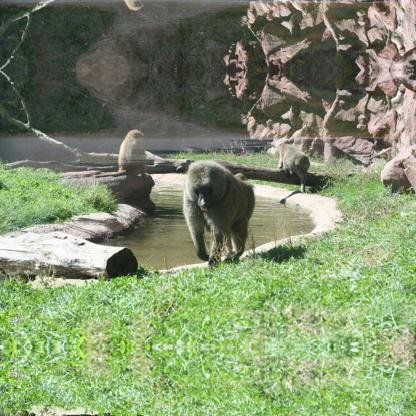Monkey: (182, 158, 256, 264), (273, 143, 309, 193), (117, 126, 147, 176), (117, 0, 148, 12)
